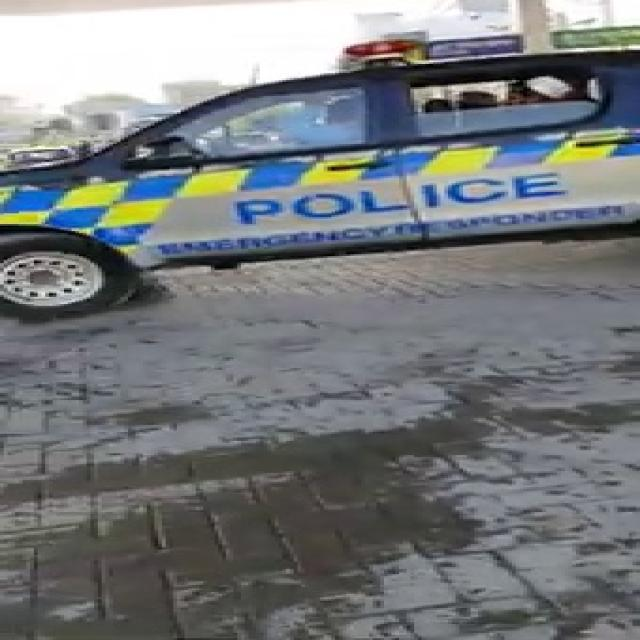police: (1, 15, 631, 312)
